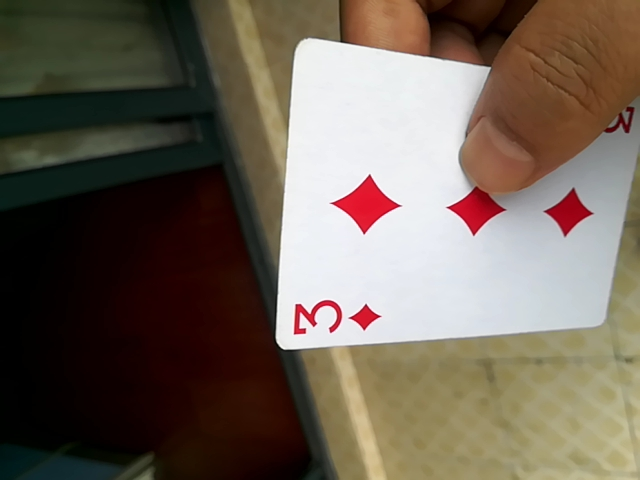fk 3: (269, 48, 632, 351)
